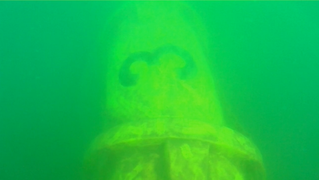3: (118, 44, 196, 87)
pipe: (82, 1, 267, 179)
